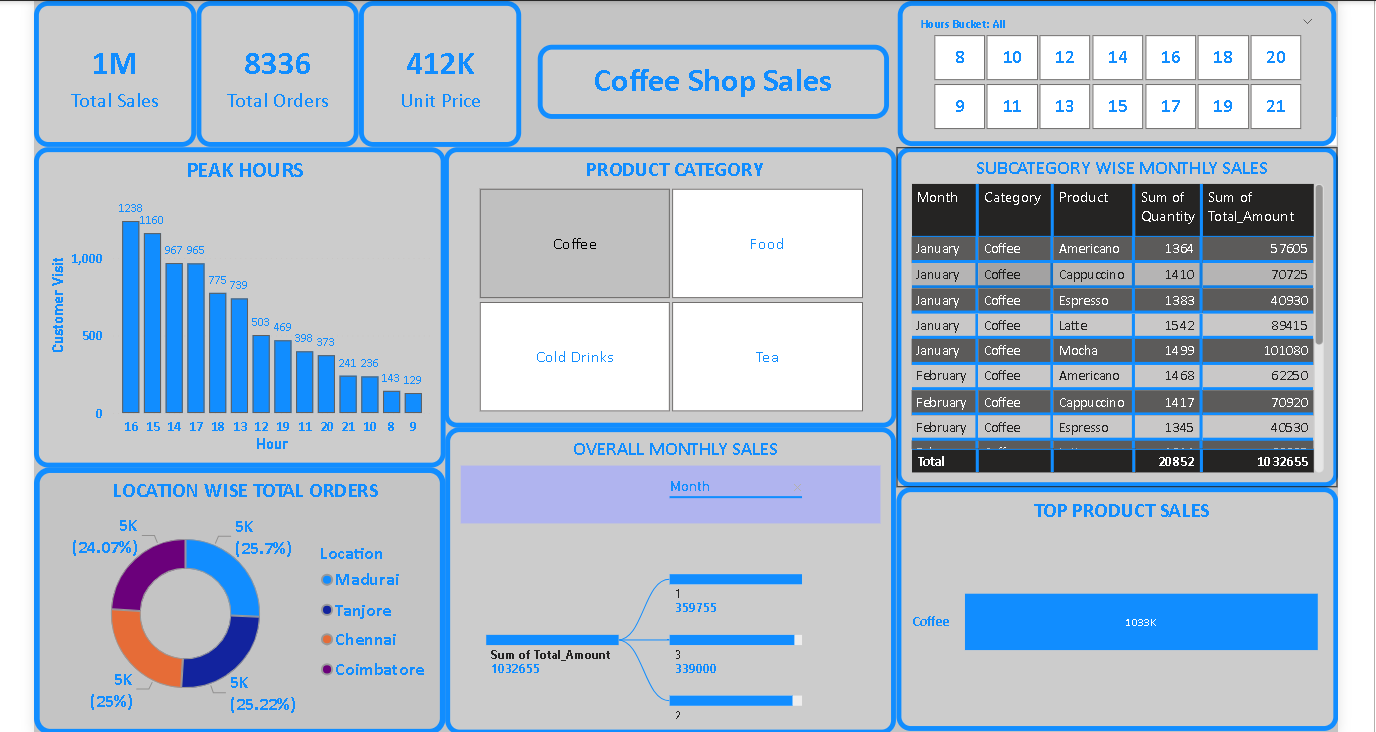

The dashboard page shown, as its layout file describes it:
{"tool":"powerbi","page":{"name":"Page 1","canvas":[1280,720],"ordinal":0},"visuals":[{"type":"slicer","title":"PRODUCT CATEGORY","fields":{"Values":["coffee_shop_sales_final.Category"]},"box":[402.5,143.8,443.8,275],"z":0},{"type":"clusteredColumnChart","title":"PEAK HOURS","fields":{"Y":["CountNonNull(coffee_shop_sales_final.Order_ID)"],"Category":["coffee_shop_sales_final.Hour"]},"box":[0,143.5,404.3,314.5],"z":1000},{"type":"donutChart","title":"LOCATION WISE TOTAL ORDERS","fields":{"Category":["coffee_shop_sales_final.Location"],"Y":["Sum(coffee_shop_sales_final.Quantity)"]},"box":[0,458,404.3,262.3],"z":2000},{"type":"decompositionTreeVisual","title":"OVERALL MONTHLY SALES","fields":{"Analyze":["Sum(coffee_shop_sales_final.Total_Amount)"],"ExplainBy":["coffee_shop_sales_final.Month"]},"box":[403.8,418.8,442.5,301.2],"z":3000},{"type":"funnel","title":"TOP PRODUCT SALES","fields":{"Category":["coffee_shop_sales_final.Category"],"Y":["Sum(coffee_shop_sales_final.Total_Amount)"]},"box":[846.4,476.8,433.3,239.1],"z":4000},{"type":"tableEx","title":"SUBCATEGORY WISE MONTHLY SALES","fields":{"Values":["coffee_shop_sales_final.Order_Date.Variation.Date Hierarchy.Month","coffee_shop_sales_final.Category","coffee_shop_sales_final.Product","Sum(coffee_shop_sales_final.Quantity)","Sum(coffee_shop_sales_final.Total_Amount)"]},"box":[846.4,143.5,433.3,333.3],"z":5000},{"type":"slicer","fields":{"Values":["coffee_shop_sales_final.Hour"]},"box":[847.5,0,430,142.5],"z":6000},{"type":"card","fields":{"Values":["Sum(coffee_shop_sales_final.Total_Amount)"]},"box":[0,0,159.4,143.5],"z":7000},{"type":"card","fields":{"Values":["Count(coffee_shop_sales_final.Order_ID)"]},"box":[159.4,0,159.4,143.5],"z":8000},{"type":"card","fields":{"Values":["Sum(coffee_shop_sales_final.Unit_Price)"]},"box":[318.8,0,159.4,143.5],"z":9000},{"type":"textbox","box":[494.2,43.5,344.9,72.5],"z":10000}]}

Visuals, with their boxes in screenshot pixels (x1, y1, x2, y2):
"PRODUCT CATEGORY" slicer: <bbox>450, 144, 894, 419</bbox>
"PEAK HOURS" clusteredColumnChart: <bbox>47, 144, 451, 459</bbox>
"LOCATION WISE TOTAL ORDERS" donutChart: <bbox>47, 459, 451, 721</bbox>
"OVERALL MONTHLY SALES" decompositionTreeVisual: <bbox>451, 419, 894, 721</bbox>
"TOP PRODUCT SALES" funnel: <bbox>894, 477, 1328, 717</bbox>
"SUBCATEGORY WISE MONTHLY SALES" tableEx: <bbox>894, 144, 1328, 477</bbox>
slicer - coffee_shop_sales_final.Hour: <bbox>895, 0, 1326, 143</bbox>
card - Sum(coffee_shop_sales_final.Total_Amount): <bbox>47, 0, 206, 144</bbox>
card - Count(coffee_shop_sales_final.Order_ID): <bbox>206, 0, 366, 144</bbox>
card - Sum(coffee_shop_sales_final.Unit_Price): <bbox>366, 0, 525, 144</bbox>
textbox: <bbox>541, 44, 887, 116</bbox>
